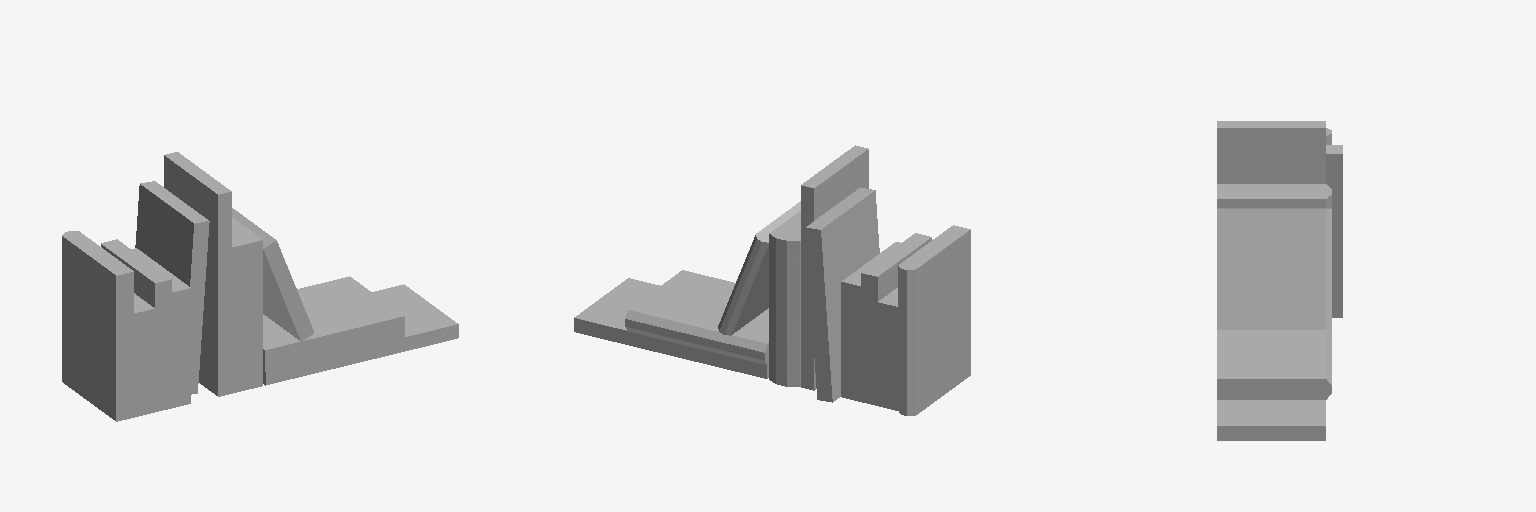
File: books01.obj
3 renders of one model, left to right at view 1: azimuth 30°, elevation 25°; view 2: azimuth 150°, elevation 25°; view 3: azimuth 270°, elevation 25°, orthographic.
Parts seen in each view (by area): view 1: mesh; view 2: mesh; view 3: mesh.
Part boxes in pixels (left/top/right/bottom): mesh: left=62, top=152, right=458, bottom=421; mesh: left=574, top=145, right=970, bottom=415; mesh: left=1217, top=121, right=1342, bottom=440.
Size of the model in its own units: 44.12 by 24.9 by 14.14.